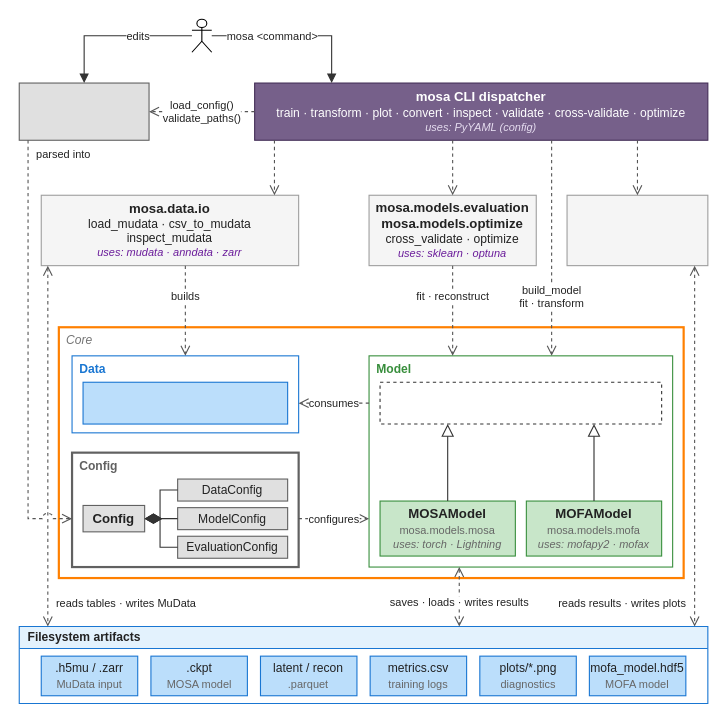
Image size: 727x723. Some labels were removed from this diagram. Each missing label, with the centre of its shape:
config.yaml: the point at 83,111
mosa.plot generate_all_plots uses: matplotlib · seaborn sklearn · umap: the point at 637,230
MultiOmicDataset views · masks · metadata: the point at 185,402
MultiOmicModel «abstract» · mosa.models.api: the point at 520,402
User: the point at 201,35
